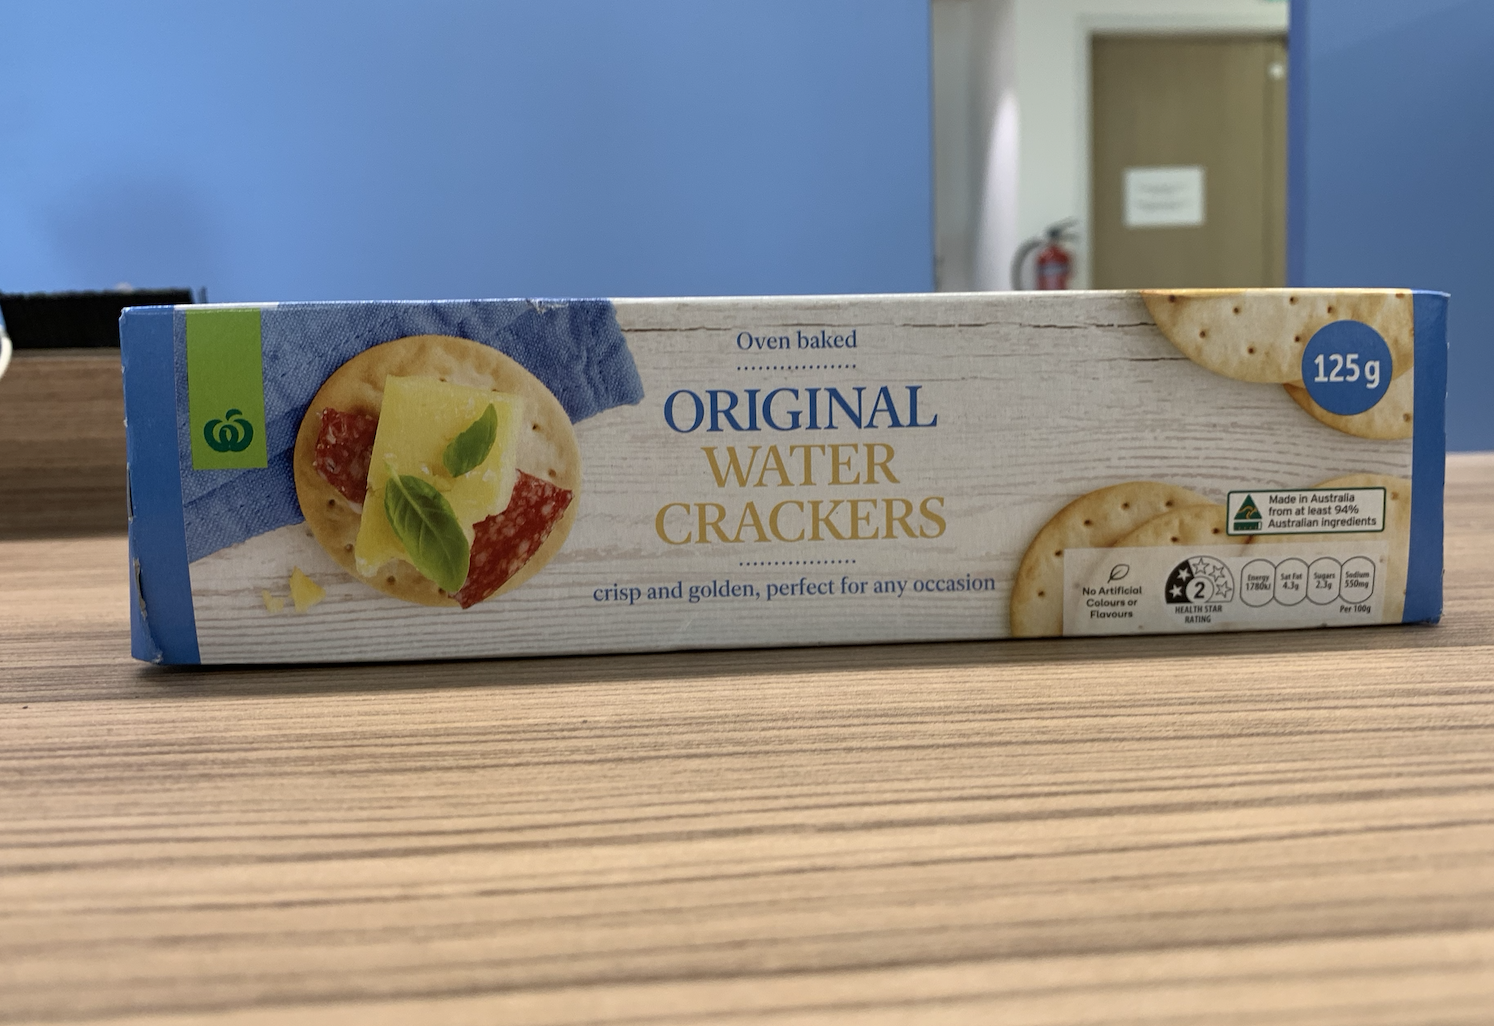crackers_150g: (188, 305, 1409, 623)
